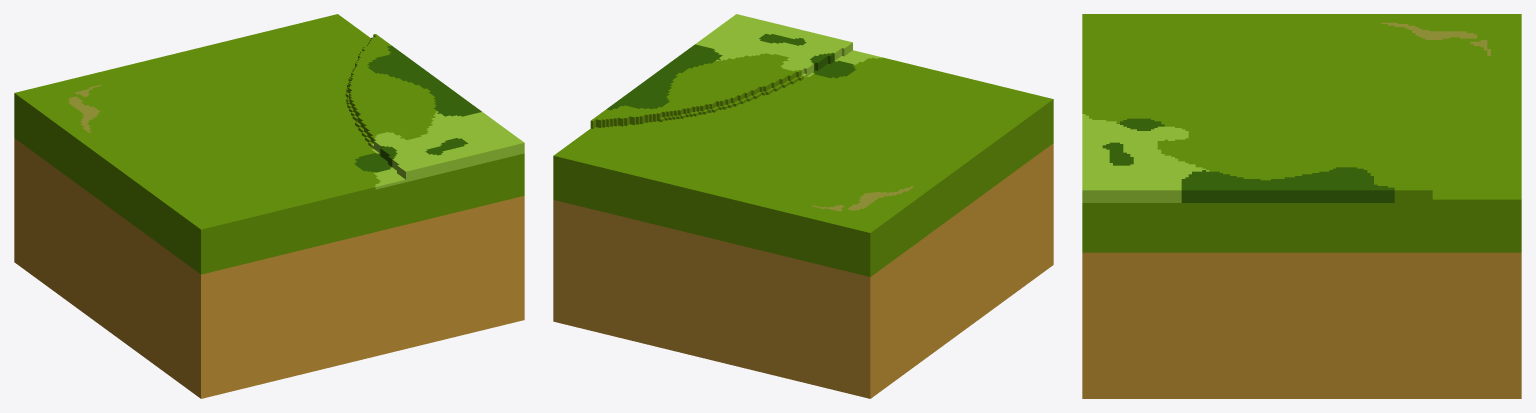
3 renders of one model, left to right at view 1: azimuth 30°, elevation 25°; view 2: azimuth 150°, elevation 25°; view 3: azimuth 270°, elevation 25°, orthographic. The views are drawn at different scales.
Parts seen in each view (by area): view 1: 13H; view 2: 13H; view 3: 13H.
Boxes of the visible parts, x1=… form: 13H: x1=14, y1=14, x2=524, y2=398; 13H: x1=553, y1=14, x2=1053, y2=398; 13H: x1=1082, y1=14, x2=1521, y2=398.
Bounding box in the file's own units: 12.8 × 6.7 × 12.8.
1 material, 1 textured.
